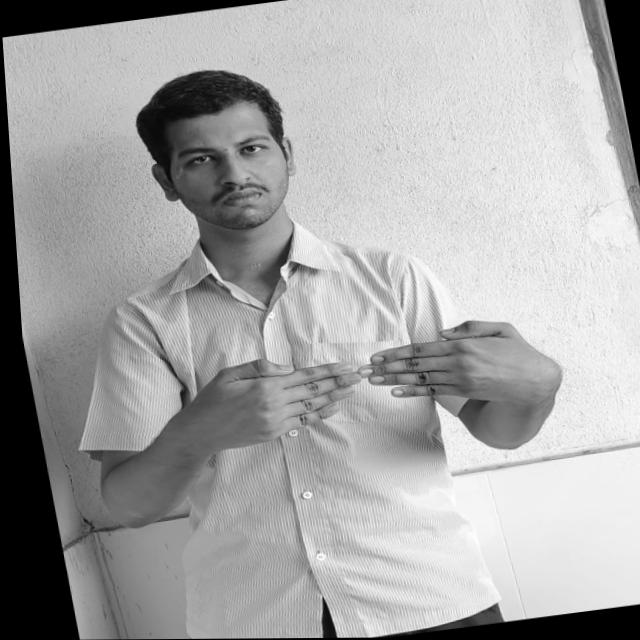Night: (160, 308, 556, 449)
